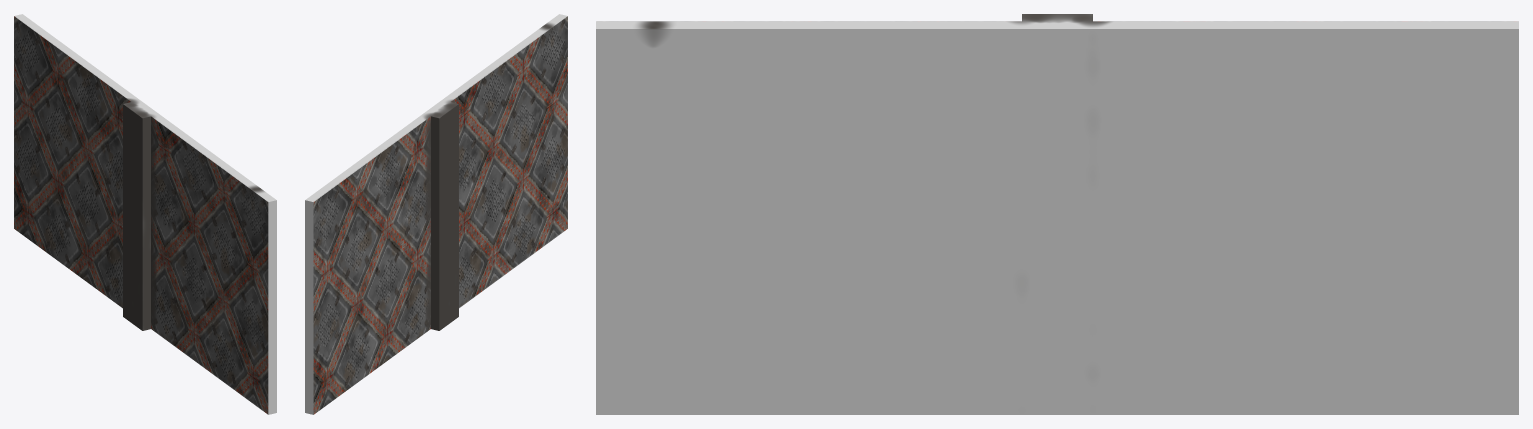
Rendered from wall_unity.fbx.
The picture shows the model from 3 angles, left to right: view 1: azimuth 30°, elevation 25°; view 2: azimuth 150°, elevation 25°; view 3: azimuth 270°, elevation 25°; orthographic projection. The views are drawn at different scales.
Visible parts, largest first — view 1: Cube; view 2: Cube; view 3: Cube.
Boxes of the visible parts, <box> form: Cube: <box>14,14,276,414</box>; Cube: <box>305,14,567,414</box>; Cube: <box>596,14,1518,414</box>.
Bounding box in the file's own units: 50 × 600 × 1300.
